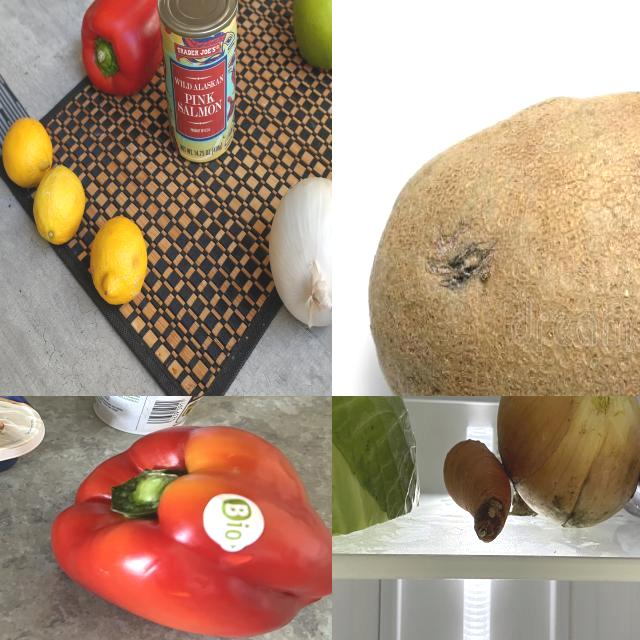bell_pepper: (55, 415, 333, 639), (82, 1, 159, 90)
cabbage: (333, 397, 428, 551)
carrot: (442, 442, 524, 547)
onion: (498, 397, 640, 527), (269, 179, 333, 337)
potato: (369, 92, 640, 397)
